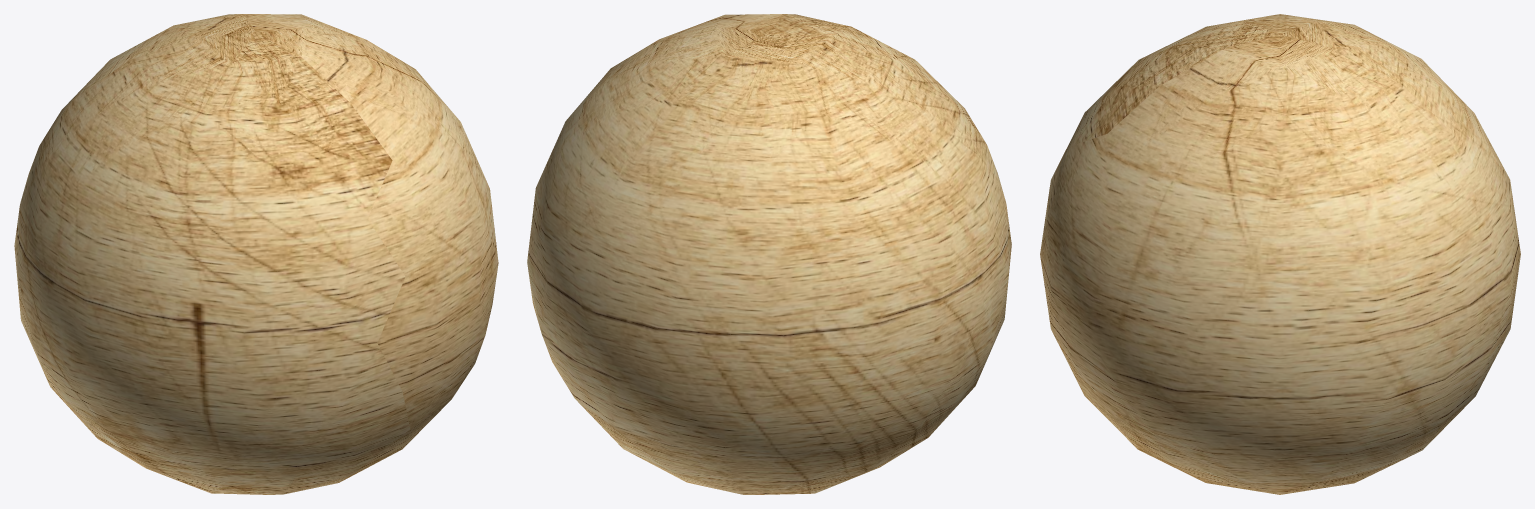
The model's file is woodsphere_fbx.fbx.
The picture shows the model from 3 angles, left to right: view 1: azimuth 30°, elevation 25°; view 2: azimuth 150°, elevation 25°; view 3: azimuth 270°, elevation 25°; orthographic projection.
Visible parts, largest first — view 1: Icosphere; view 2: Icosphere; view 3: Icosphere.
Boxes of the visible parts, x1=… form: Icosphere: x1=14, y1=14, x2=498, y2=494; Icosphere: x1=527, y1=14, x2=1011, y2=494; Icosphere: x1=1040, y1=14, x2=1520, y2=494.
Size of the model in its own units: 197 by 198 by 195.
